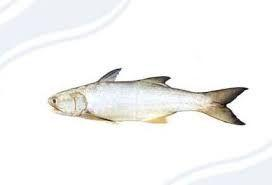Fourfinger Threadfish: (49, 67, 247, 126)
